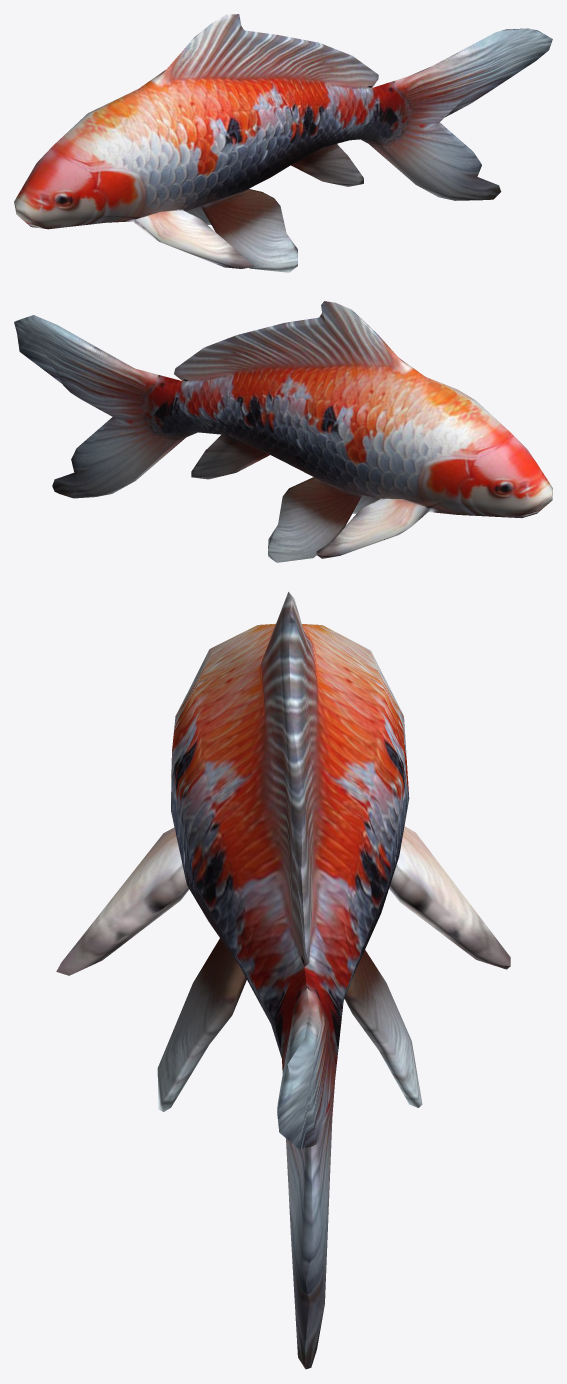
File: koifish.glb
The picture shows the model from 3 angles, top to bottom: view 1: azimuth 30°, elevation 25°; view 2: azimuth 150°, elevation 25°; view 3: azimuth 270°, elevation 25°; orthographic projection. The views are drawn at different scales.
Parts seen in each view (by area): view 1: koifish; view 2: koifish; view 3: koifish.
Part boxes in pixels (x1,y1,x2,y2): koifish: [14, 14, 552, 272]; koifish: [14, 301, 552, 562]; koifish: [56, 592, 510, 1369].
Size of the model in its own units: 0.5357 by 0.2423 by 0.1969.
1 material, 1 textured.
